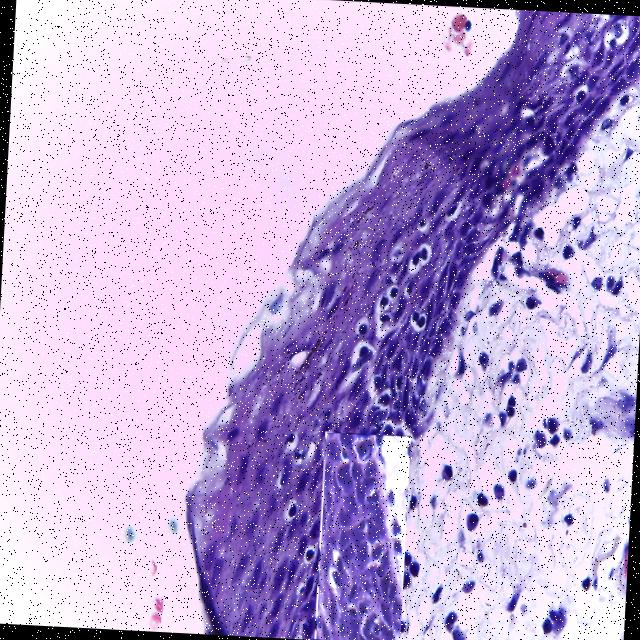Nuclear Hyperchromatism: (324, 434, 402, 640)
